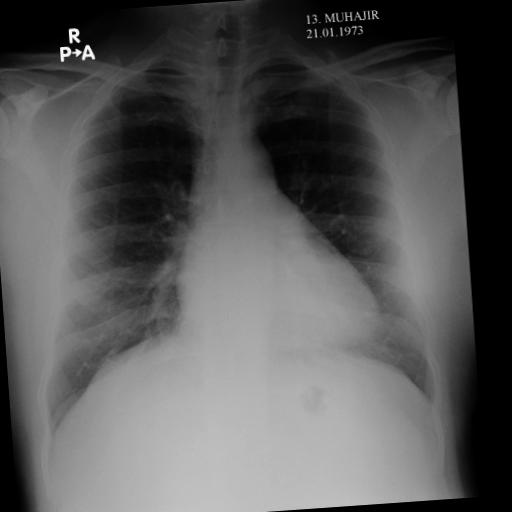kardiomegali: (12, 16, 446, 446)
